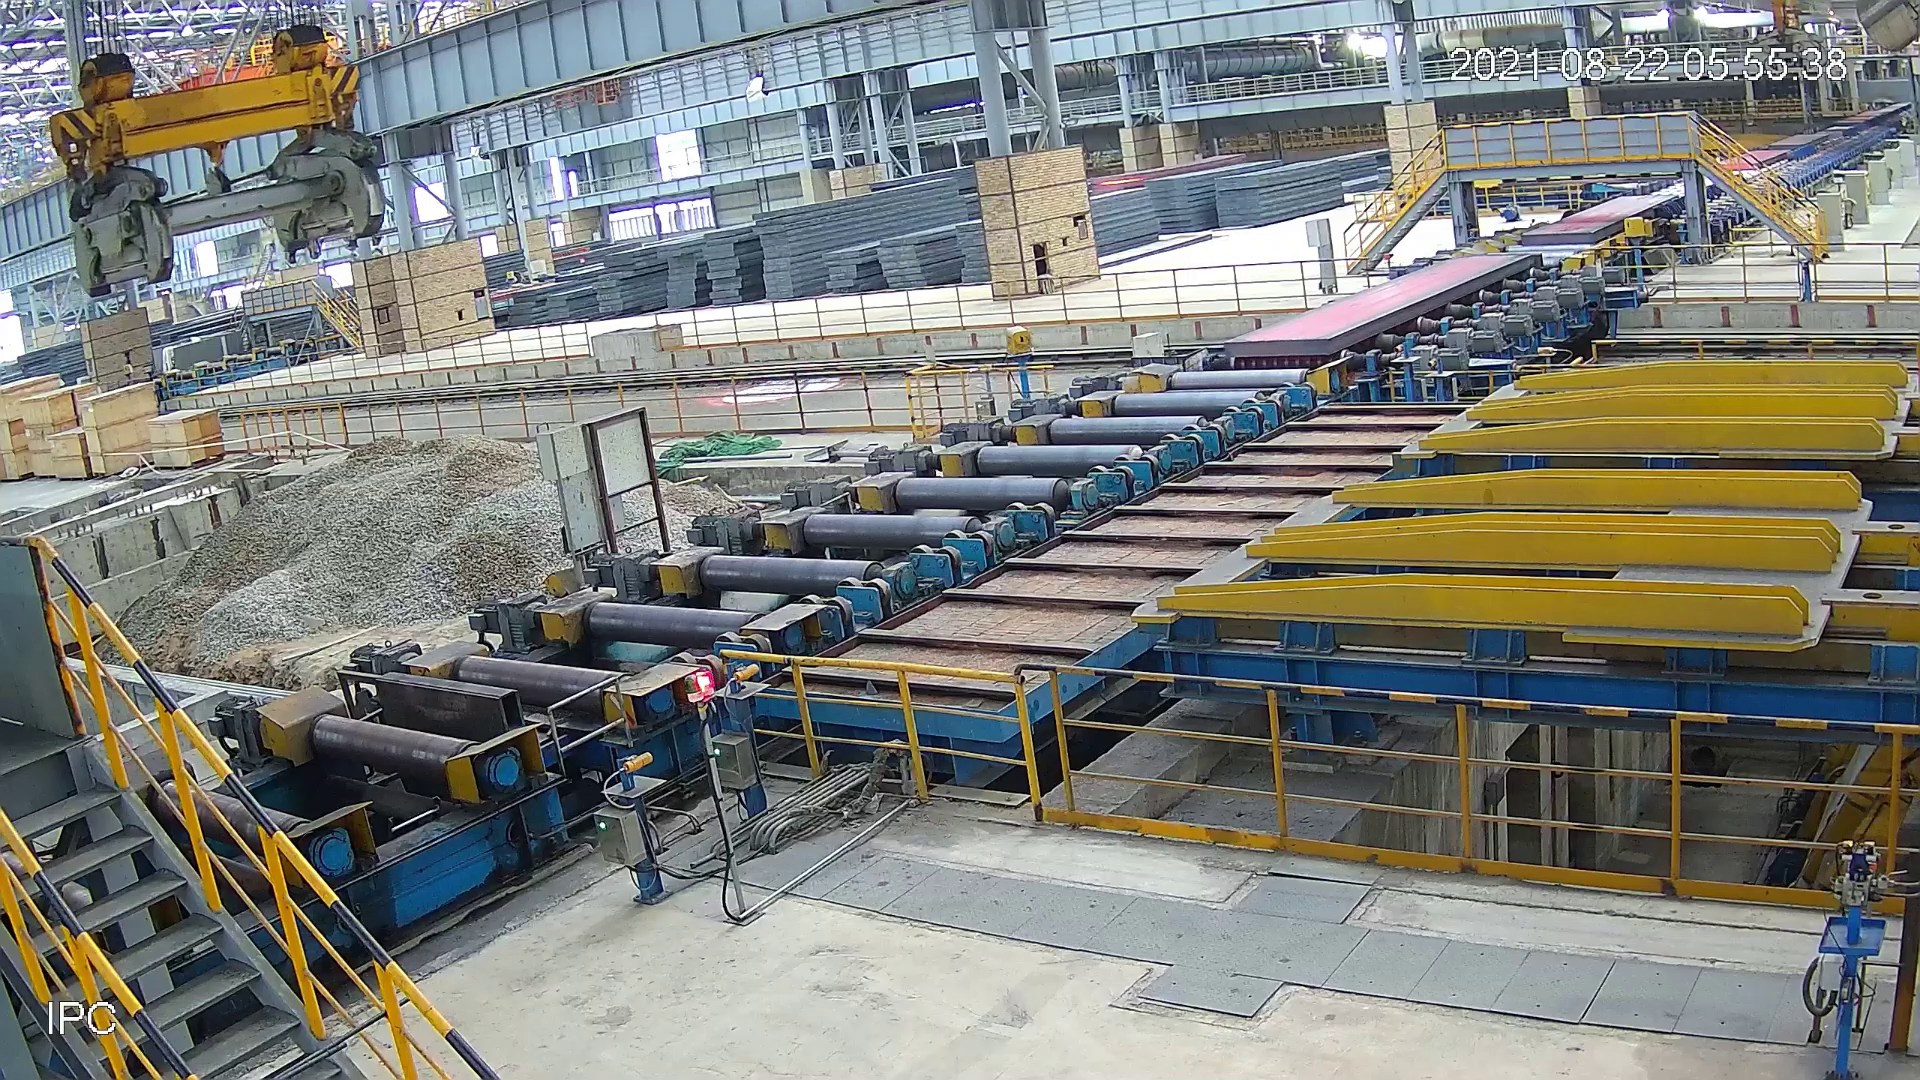crane: (46, 25, 388, 307)
slab: (1217, 249, 1545, 367), (1513, 189, 1683, 245)
